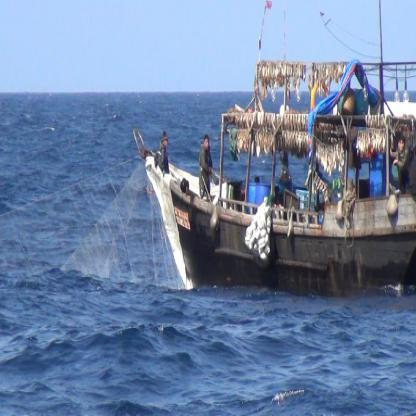Ship: (128, 50, 416, 301)
